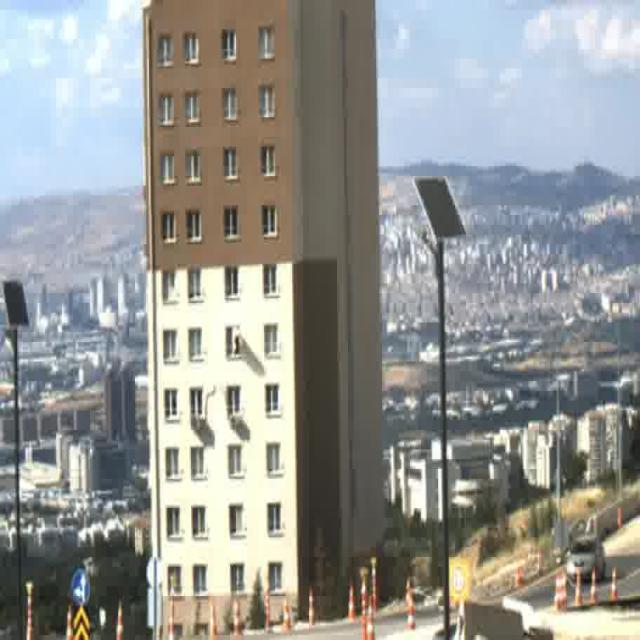Car: (566, 538, 606, 586)
